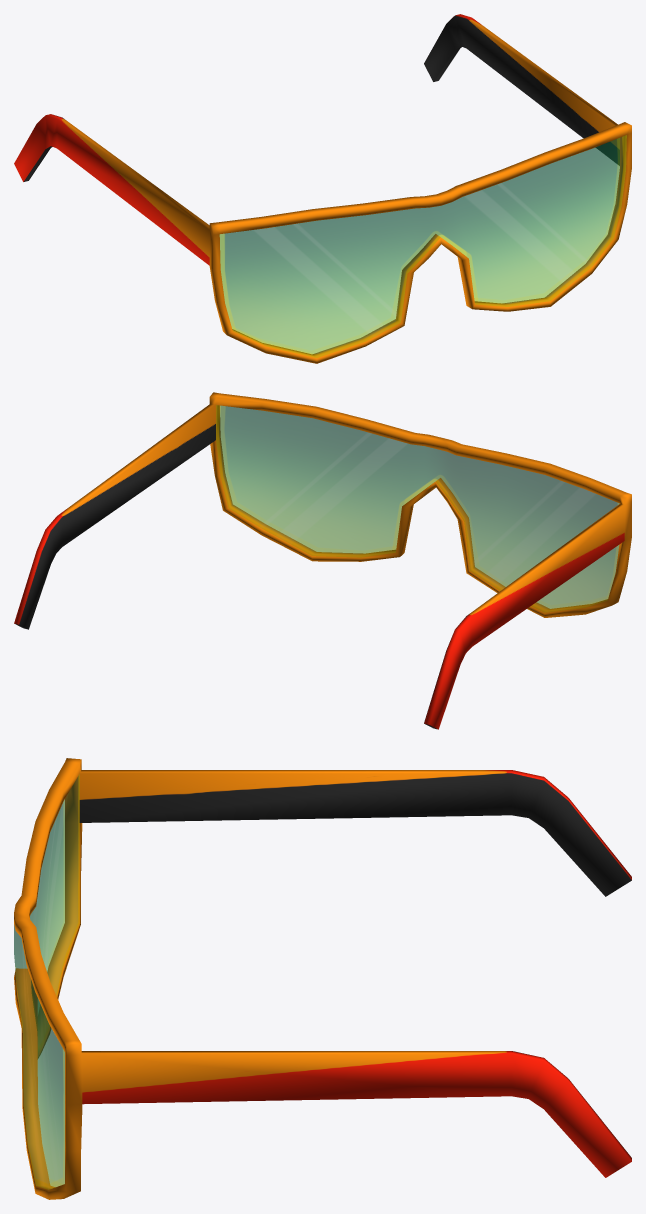
The model's file is AimingGlasses.fbx.
3 views of the same model, one above another, from view 1: azimuth 30°, elevation 25°; view 2: azimuth 150°, elevation 25°; view 3: azimuth 270°, elevation 25° (orthographic). The views are drawn at different scales.
Visible parts, largest first — view 1: Cube; view 2: Cube; view 3: Cube.
Part boxes in pixels (x1,y1,x2,y2): Cube: (14,14,631,363); Cube: (14,392,631,729); Cube: (14,758,631,1199).
Size of the model in its own units: 41.62 by 14.32 by 37.85.
